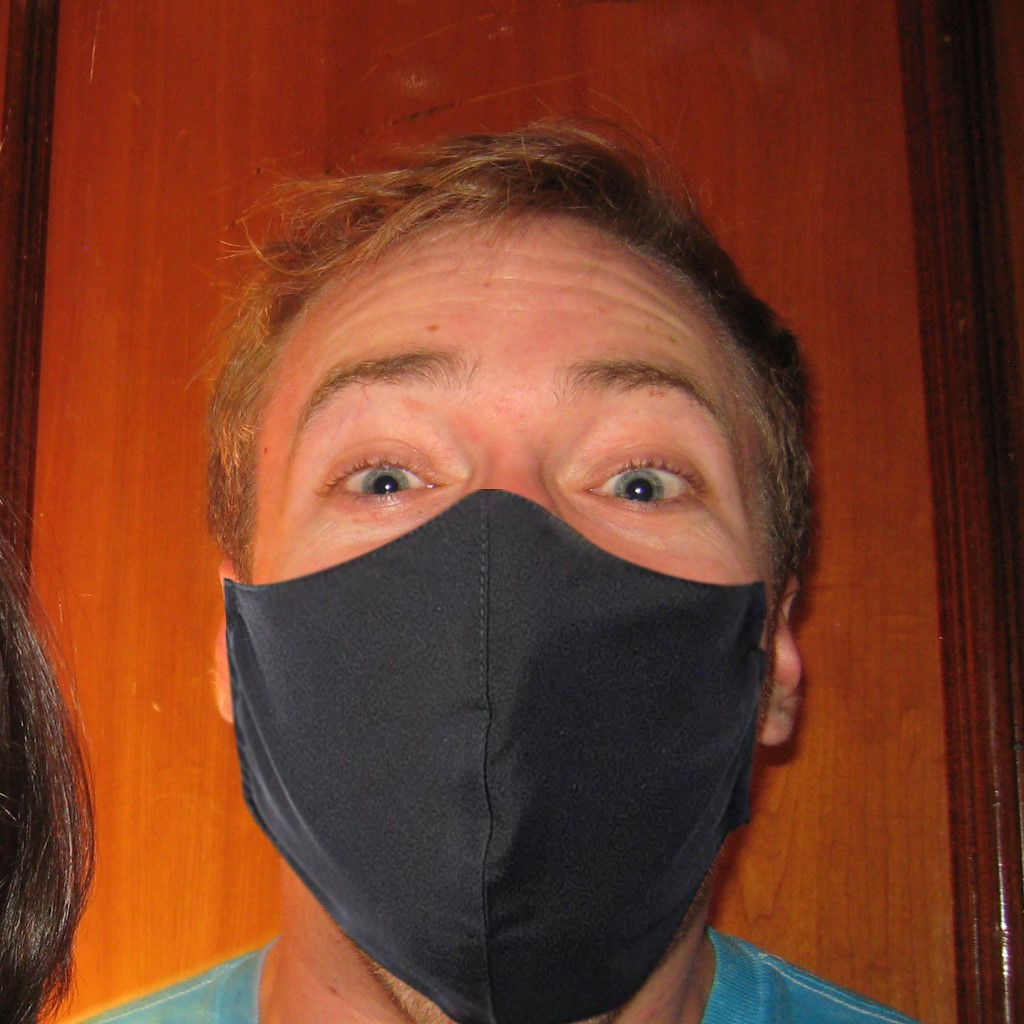con_mascara: (215, 201, 797, 976)
